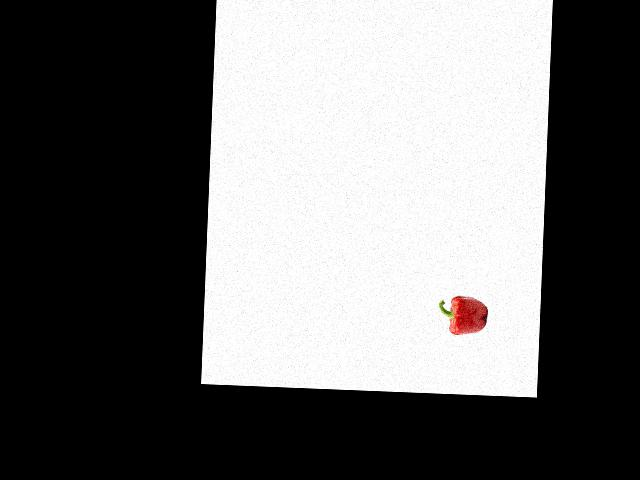bell_pepper: (436, 292, 490, 338)
